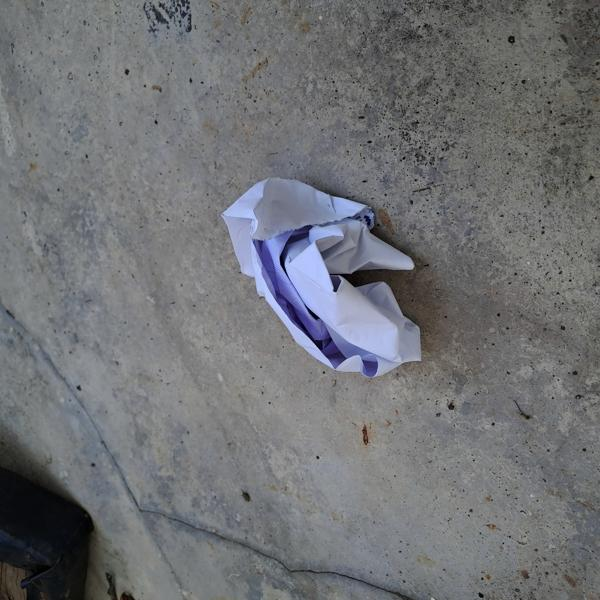Organik: (213, 157, 443, 393)
